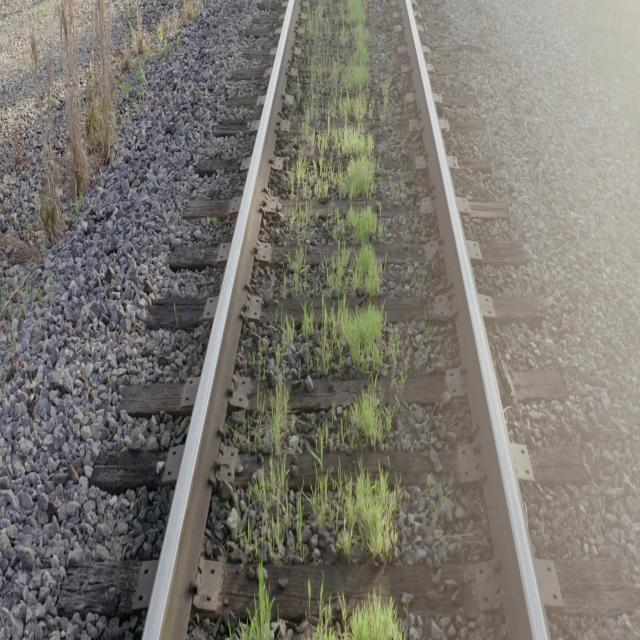Plant: (282, 207, 406, 453), (290, 0, 376, 198), (246, 344, 290, 567), (310, 464, 401, 560), (312, 591, 404, 640), (350, 589, 404, 640), (245, 584, 271, 638), (289, 204, 319, 233), (294, 247, 309, 291)
